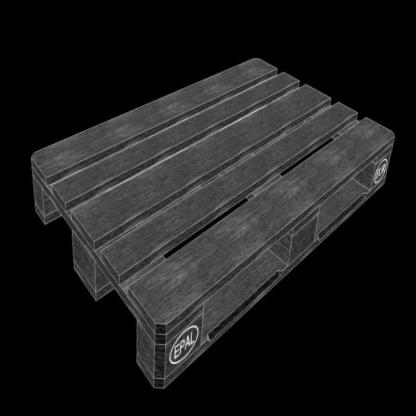BoxFace: (32, 58, 396, 396)
